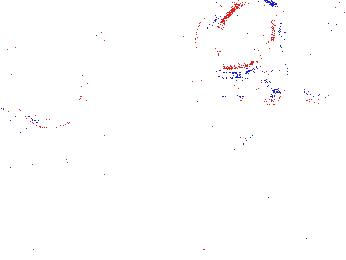moon jellyfish: (162, 78, 260, 152), (194, 1, 279, 81), (13, 49, 90, 128), (257, 15, 318, 95)
